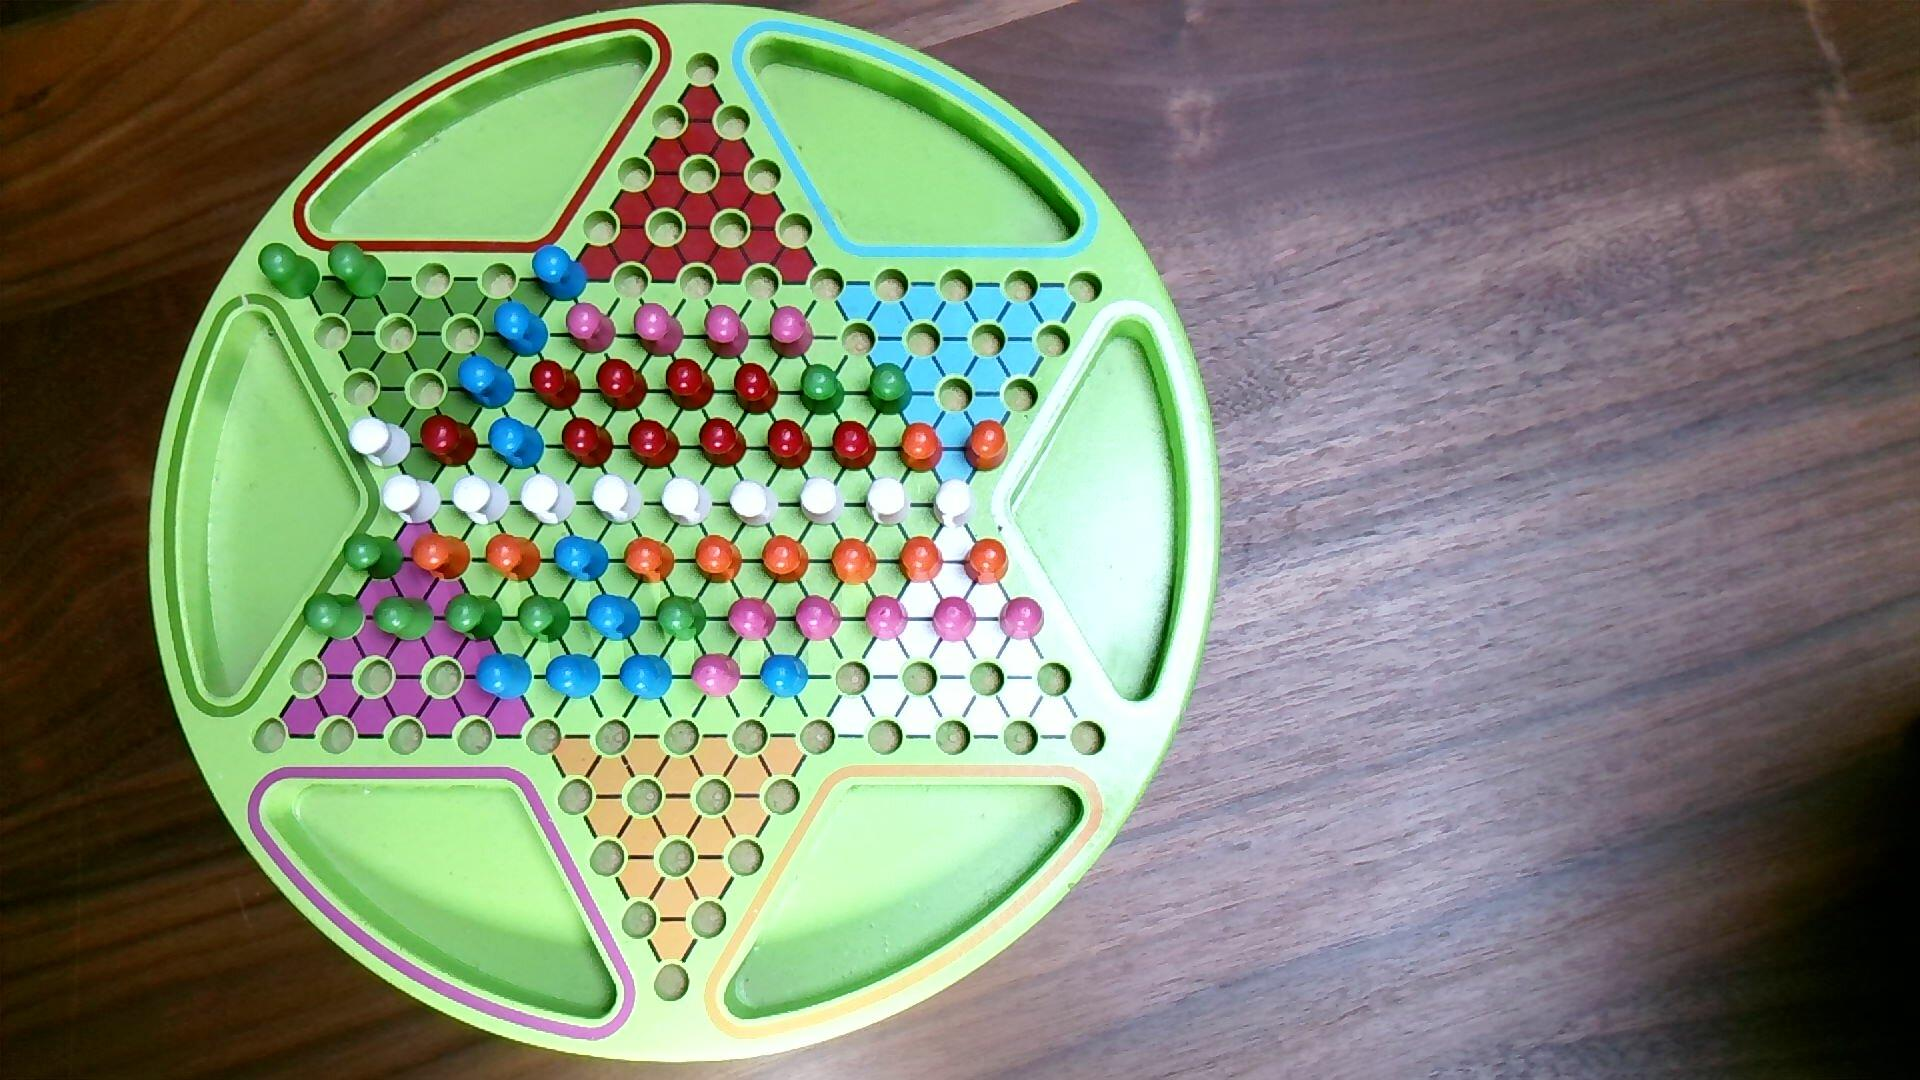B: (492, 295, 551, 360), (530, 241, 589, 305), (456, 353, 517, 413), (487, 415, 547, 473), (583, 592, 645, 646), (473, 650, 534, 704), (551, 534, 613, 585), (618, 651, 676, 704), (545, 653, 604, 702), (757, 651, 811, 703)
G: (324, 237, 390, 305), (256, 239, 323, 303), (301, 589, 371, 645), (442, 589, 506, 647), (372, 591, 438, 645), (342, 530, 407, 583), (516, 593, 574, 647), (654, 592, 709, 645), (862, 363, 915, 418), (796, 360, 845, 415)
O: (407, 527, 473, 587), (484, 530, 545, 585), (894, 419, 949, 477), (622, 533, 678, 589), (760, 531, 814, 589), (694, 529, 746, 587), (963, 415, 1013, 476), (828, 535, 880, 589), (895, 531, 945, 587), (963, 537, 1011, 591)
R: (419, 411, 481, 471), (593, 355, 651, 415), (560, 414, 617, 471), (626, 417, 682, 473), (529, 356, 584, 413), (663, 355, 717, 413), (732, 359, 782, 419), (698, 415, 752, 471), (829, 415, 880, 473), (767, 418, 816, 473)
R2: (629, 298, 687, 361), (702, 301, 752, 363), (687, 650, 745, 703), (563, 301, 617, 356), (767, 302, 815, 364), (724, 593, 781, 644), (862, 592, 911, 647), (793, 593, 844, 645), (1000, 593, 1048, 644), (931, 596, 978, 646)
W: (450, 469, 513, 530), (345, 415, 414, 471), (380, 472, 444, 527), (518, 471, 580, 527), (657, 473, 716, 531), (589, 469, 647, 527), (727, 473, 783, 531), (862, 472, 916, 531), (795, 472, 849, 530), (928, 476, 978, 531)
